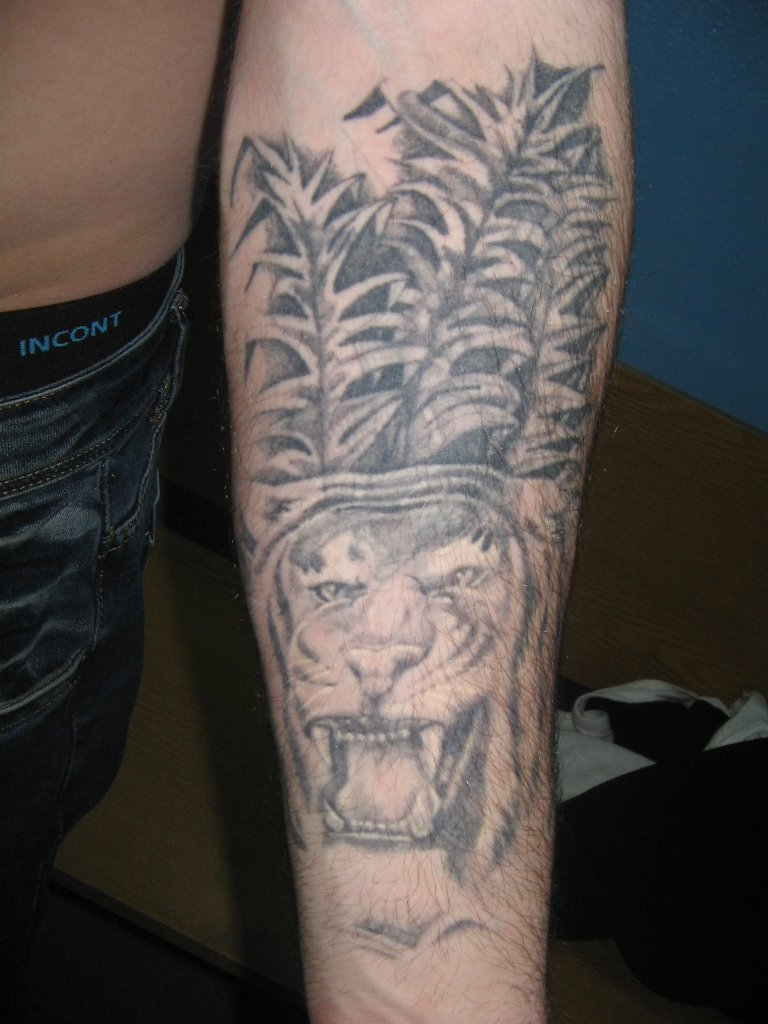tatu5_tigr: (200, 440, 586, 945)
